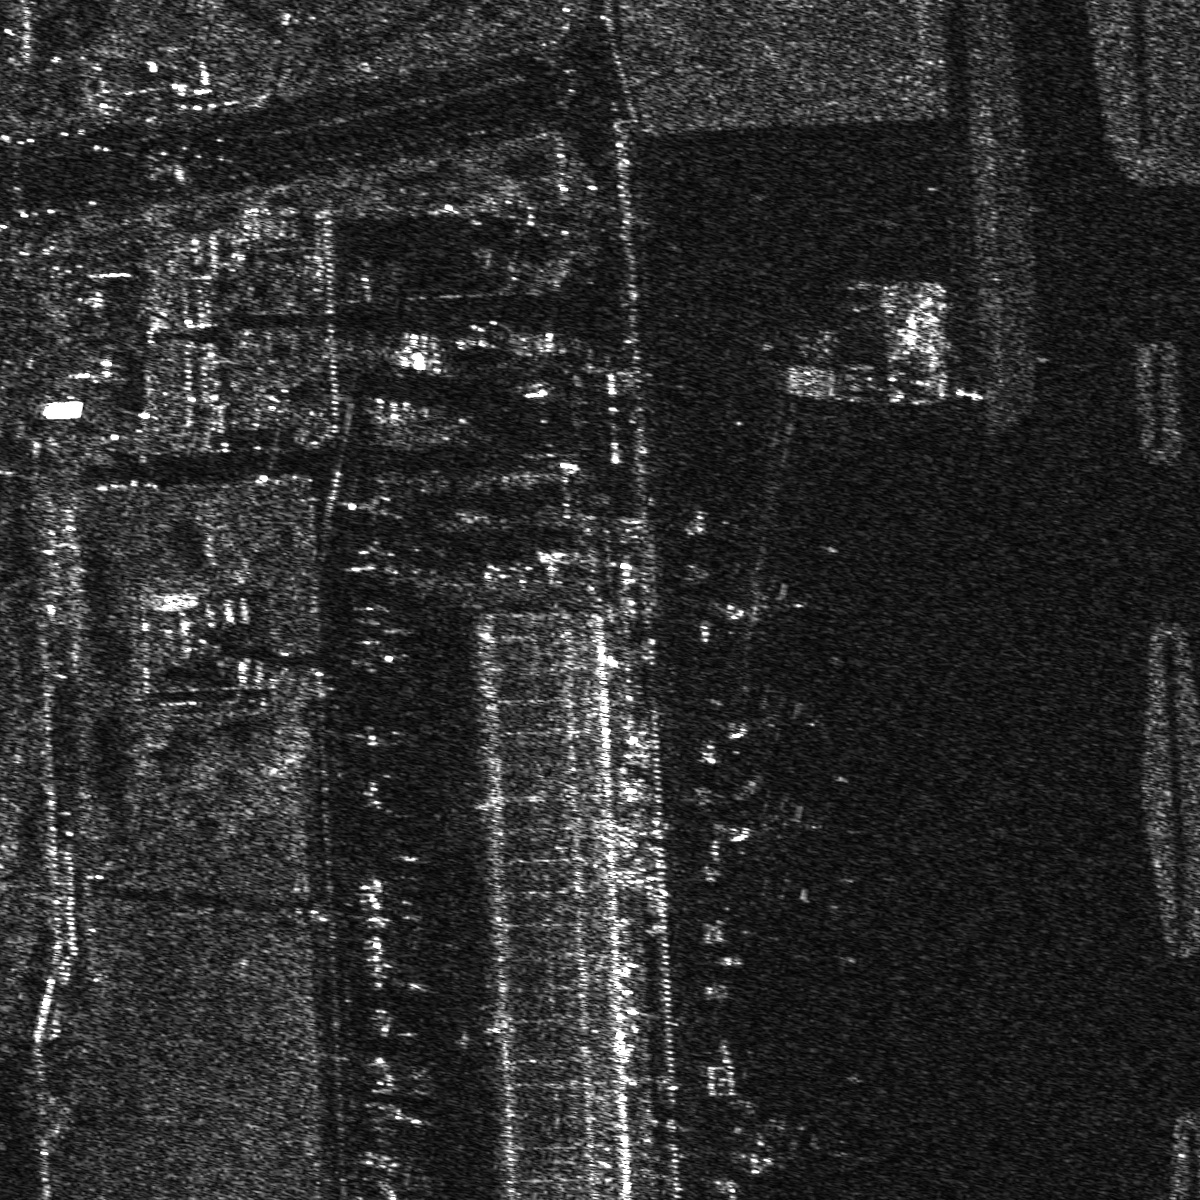A320/321: (707, 793, 829, 865), (722, 686, 823, 749)
Boeing737: (714, 576, 810, 649)
